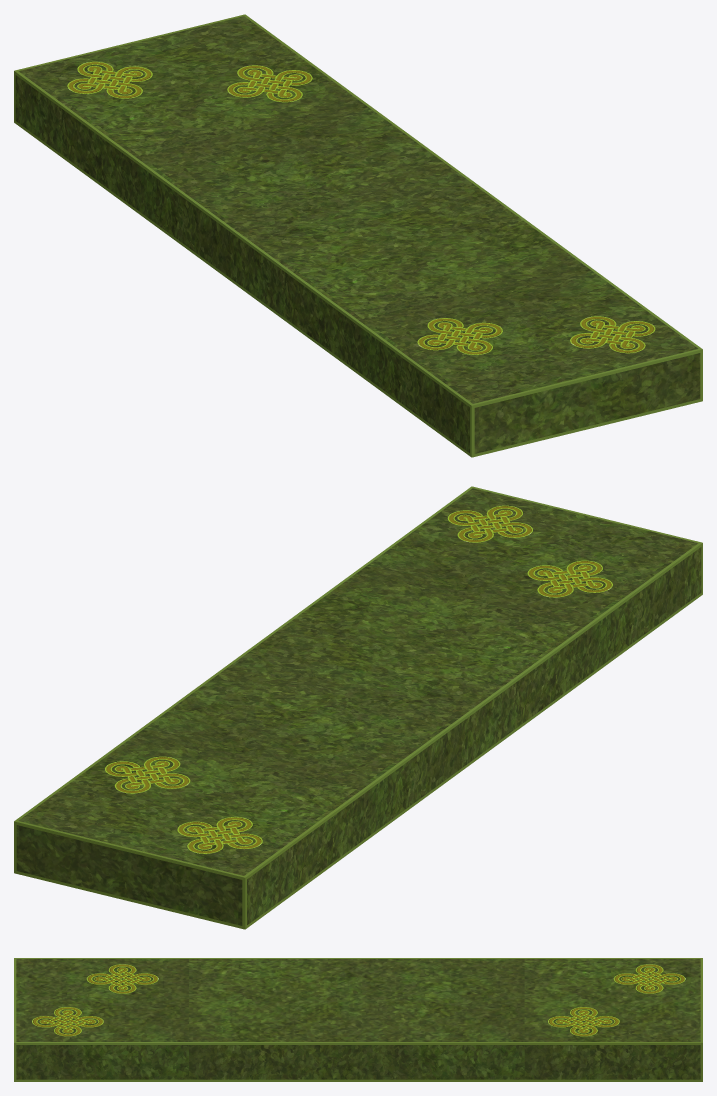
File: mountain_thinpath1.gltf
3 views of the same model, one above another, from view 1: azimuth 30°, elevation 25°; view 2: azimuth 150°, elevation 25°; view 3: azimuth 270°, elevation 25° (orthographic). The views are drawn at different scales.
Parts seen in each view (by area): view 1: mountain_thinpath1_glb; view 2: mountain_thinpath1_glb; view 3: mountain_thinpath1_glb.
Part boxes in pixels (box(x1,y1,x2,y2)): mountain_thinpath1_glb: box(14, 14, 702, 457); mountain_thinpath1_glb: box(14, 486, 702, 929); mountain_thinpath1_glb: box(14, 958, 702, 1081).
Size of what is drawn, in the model's own units: 1.17 by 0.258 by 4.
Materials: 2 (2 with a texture image).
